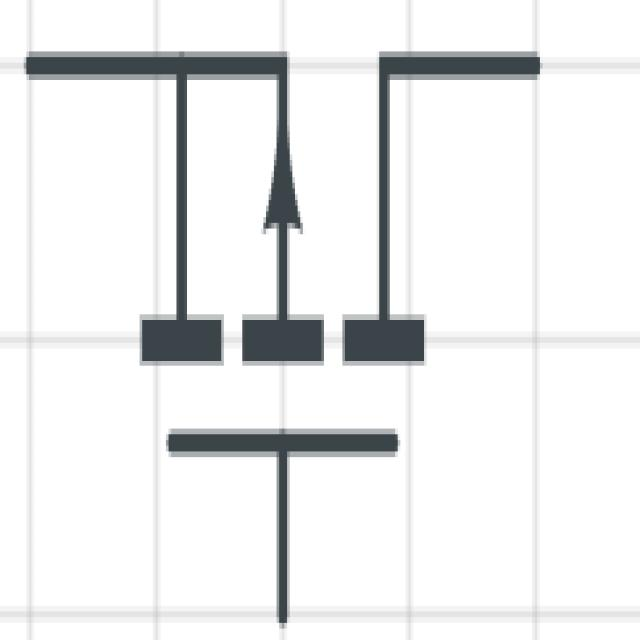nmos: (9, 22, 567, 630)
